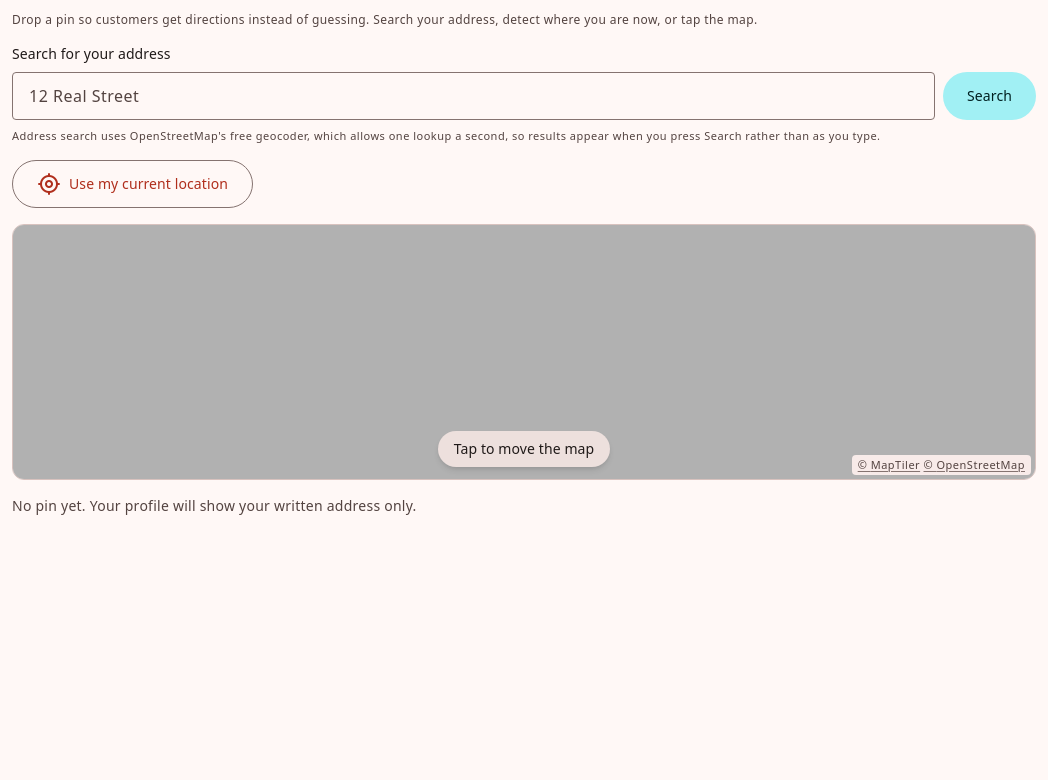
Test case: completing the task without touching the map › refuses a query too short to search without spending a request
Type "ab" into the field labelled "Search for your address". click: (474,96)
box: top-left (12, 72), bottom-right (935, 120)
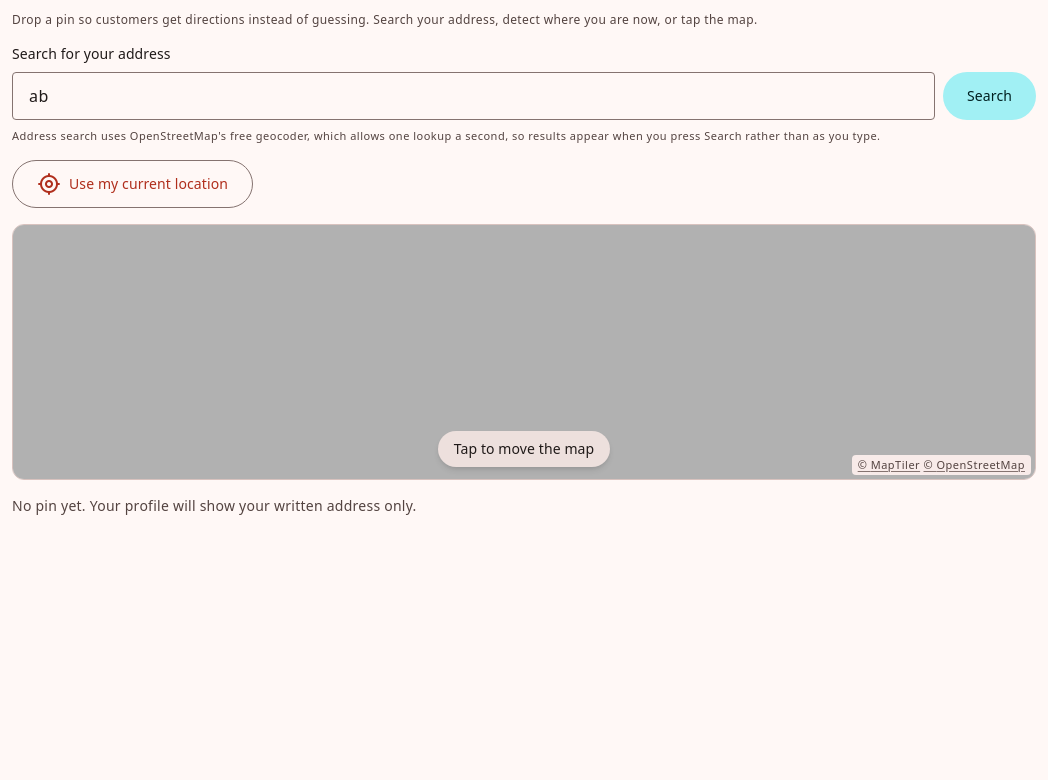
Click the button "Search". click: (990,96)
box: top-left (943, 72), bottom-right (1036, 120)
Wait 1100 ms
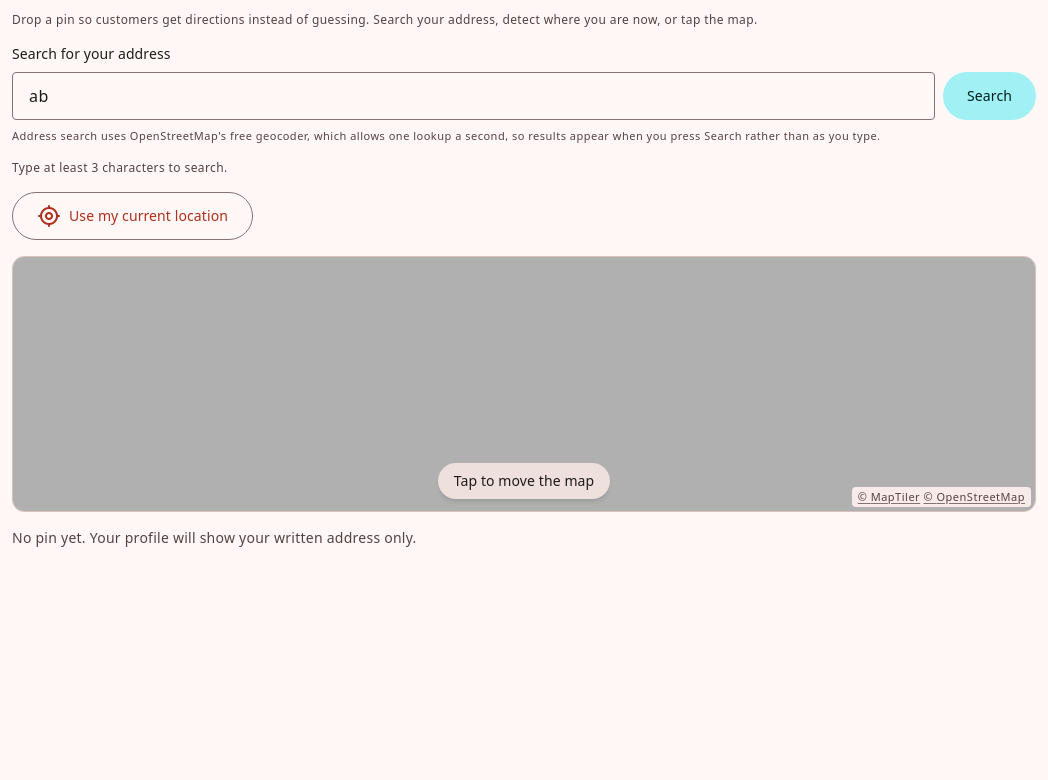
Result: the text "Type at least 3 characters to search." is shown at top-left (12, 159), bottom-right (228, 176)
